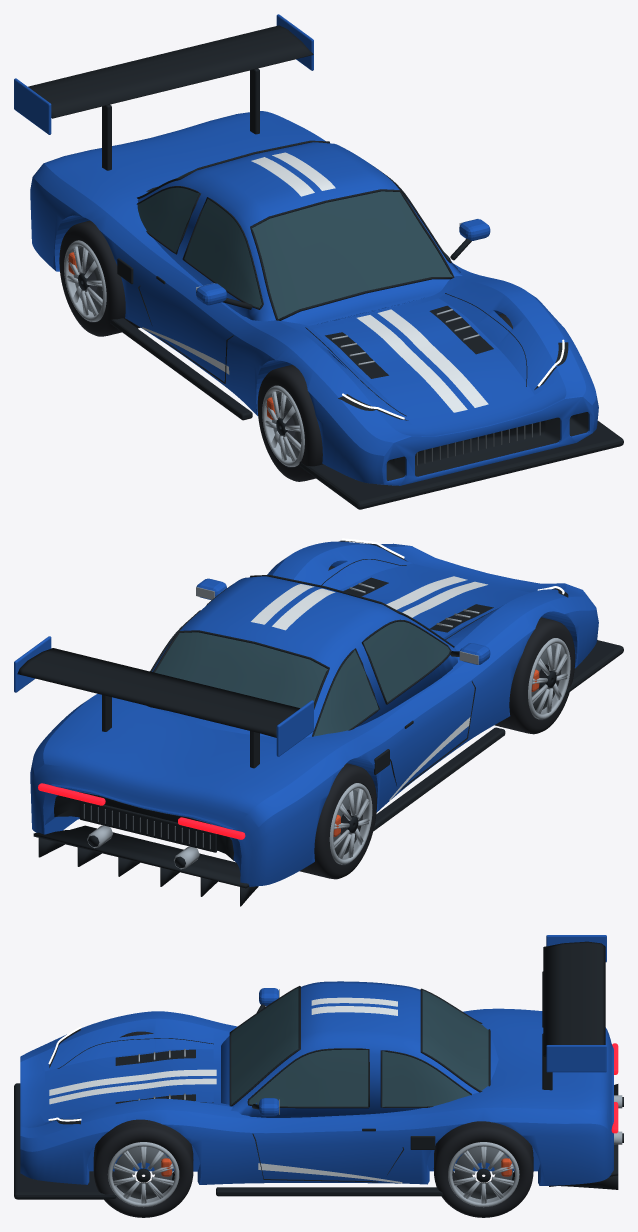
3 renders of one model, top to bottom at view 1: azimuth 30°, elevation 25°; view 2: azimuth 150°, elevation 25°; view 3: azimuth 270°, elevation 25°, orthographic. The views are drawn at different scales.
Visible parts, largest first — view 1: GT_ROOT_GT_Paint_LOD0, GT_ROOT_GT_Carbon_LOD0, GT_ROOT_GT_Glass_LOD0, GT_ROOT_GT_Ice_LOD0, SPIN_RR_GT_Rubber_LOD0, SPIN_FR_GT_Rubber_LOD0, SPIN_RR_GT_Alloy_LOD0, SPIN_FR_GT_Alloy_LOD0; view 2: GT_ROOT_GT_Paint_LOD0, GT_ROOT_GT_Carbon_LOD0, GT_ROOT_GT_Glass_LOD0, GT_ROOT_GT_Ice_LOD0, SPIN_FR_GT_Rubber_LOD0, SPIN_RR_GT_Rubber_LOD0, SPIN_RR_GT_Alloy_LOD0, SPIN_FR_GT_Alloy_LOD0, GT_ROOT_GT_Alloy_LOD0, BRAKE_LIGHT_L, BRAKE_LIGHT_R, GT_ROOT_GT_Rotor_LOD0; view 3: GT_ROOT_GT_Paint_LOD0, GT_ROOT_GT_Glass_LOD0, GT_ROOT_GT_Carbon_LOD0, SPIN_FL_GT_Rubber_LOD0, SPIN_RL_GT_Rubber_LOD0, GT_ROOT_GT_Ice_LOD0, SPIN_FL_GT_Alloy_LOD0, SPIN_RL_GT_Alloy_LOD0, WHEEL_RL_GT_Rotor_LOD0, WHEEL_FL_GT_Rotor_LOD0.
Part boxes in pixels (x1=…): GT_ROOT_GT_Paint_LOD0: x1=14, y1=14, x2=598, y2=485; GT_ROOT_GT_Carbon_LOD0: x1=28, y1=25, x2=623, y2=509; GT_ROOT_GT_Glass_LOD0: x1=137, y1=170, x2=452, y2=318; GT_ROOT_GT_Ice_LOD0: x1=142, y1=152, x2=488, y2=412; SPIN_RR_GT_Rubber_LOD0: x1=59, y1=220, x2=140, y2=336; SPIN_FR_GT_Rubber_LOD0: x1=257, y1=364, x2=322, y2=481; SPIN_RR_GT_Alloy_LOD0: x1=64, y1=240, x2=106, y2=321; SPIN_FR_GT_Alloy_LOD0: x1=262, y1=385, x2=304, y2=466; GT_ROOT_GT_Paint_LOD0: x1=14, y1=541, x2=598, y2=886; GT_ROOT_GT_Carbon_LOD0: x1=17, y1=540, x2=623, y2=906; GT_ROOT_GT_Glass_LOD0: x1=155, y1=621, x2=449, y2=736; GT_ROOT_GT_Ice_LOD0: x1=251, y1=576, x2=487, y2=800; SPIN_FR_GT_Rubber_LOD0: x1=494, y1=617, x2=575, y2=734; SPIN_RR_GT_Rubber_LOD0: x1=300, y1=763, x2=376, y2=879; SPIN_RR_GT_Alloy_LOD0: x1=329, y1=783, x2=372, y2=864; SPIN_FR_GT_Alloy_LOD0: x1=528, y1=638, x2=570, y2=719; GT_ROOT_GT_Alloy_LOD0: x1=87, y1=583, x2=479, y2=869; BRAKE_LIGHT_L: x1=38, y1=783, x2=105, y2=805; BRAKE_LIGHT_R: x1=178, y1=817, x2=245, y2=839; GT_ROOT_GT_Rotor_LOD0: x1=83, y1=804, x2=210, y2=849; GT_ROOT_GT_Paint_LOD0: x1=20, y1=935, x2=613, y2=1185; GT_ROOT_GT_Glass_LOD0: x1=231, y1=987, x2=488, y2=1106; GT_ROOT_GT_Carbon_LOD0: x1=14, y1=941, x2=623, y2=1199; SPIN_FL_GT_Rubber_LOD0: x1=93, y1=1119, x2=193, y2=1217; SPIN_RL_GT_Rubber_LOD0: x1=434, y1=1121, x2=533, y2=1217; GT_ROOT_GT_Ice_LOD0: x1=49, y1=997, x2=402, y2=1183; SPIN_FL_GT_Alloy_LOD0: x1=107, y1=1142, x2=179, y2=1207; SPIN_RL_GT_Alloy_LOD0: x1=448, y1=1142, x2=519, y2=1207; WHEEL_RL_GT_Rotor_LOD0: x1=454, y1=1146, x2=512, y2=1199; WHEEL_FL_GT_Rotor_LOD0: x1=114, y1=1146, x2=172, y2=1199.
Bounding box in the file's own units: 2.05 × 1.39 × 4.41.
